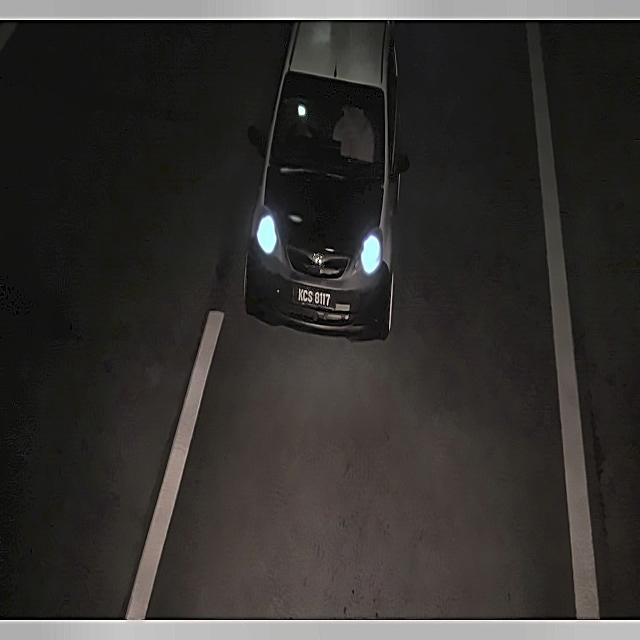car: (291, 278, 340, 316)
